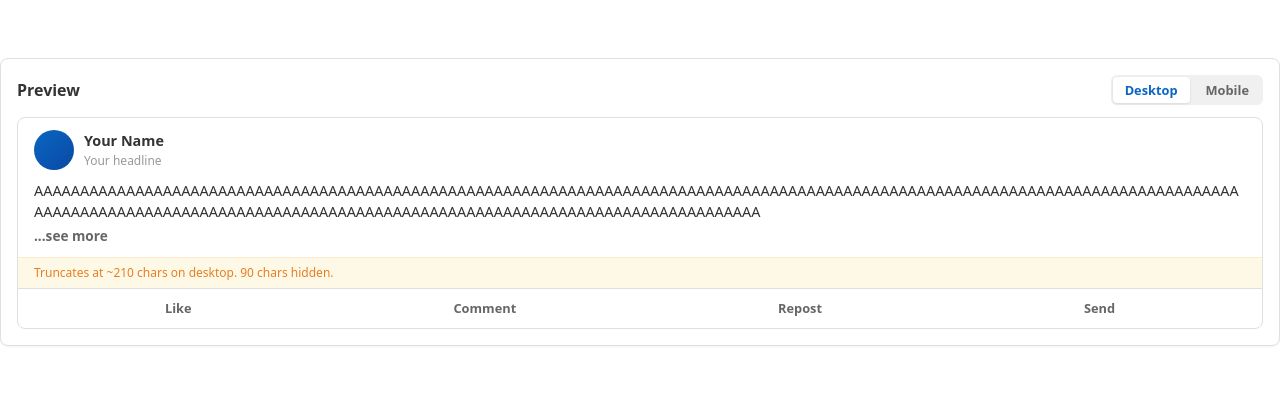
Scenario: PostPreview › resets expansion when switching device
The width and height of the screenshot is (1280, 405).
Click the button "...see more": (71, 236) x1=34 y1=226 x2=108 y2=245
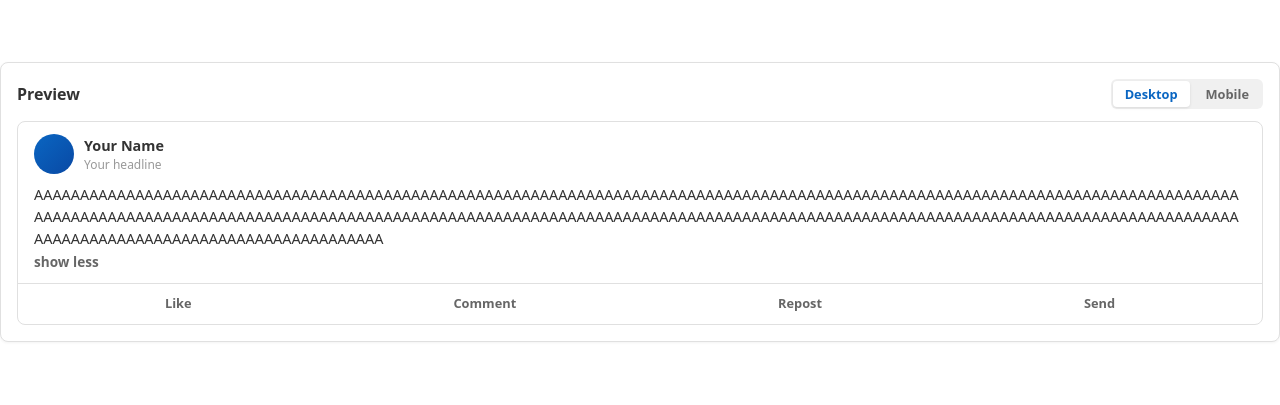
Check: the button "show less" is shown, box x1=34 y1=252 x2=99 y2=271
Note: Switch to mobile — should reset expansion
Click the button "Mobile": (1227, 94) x1=1194 y1=82 x2=1261 y2=108
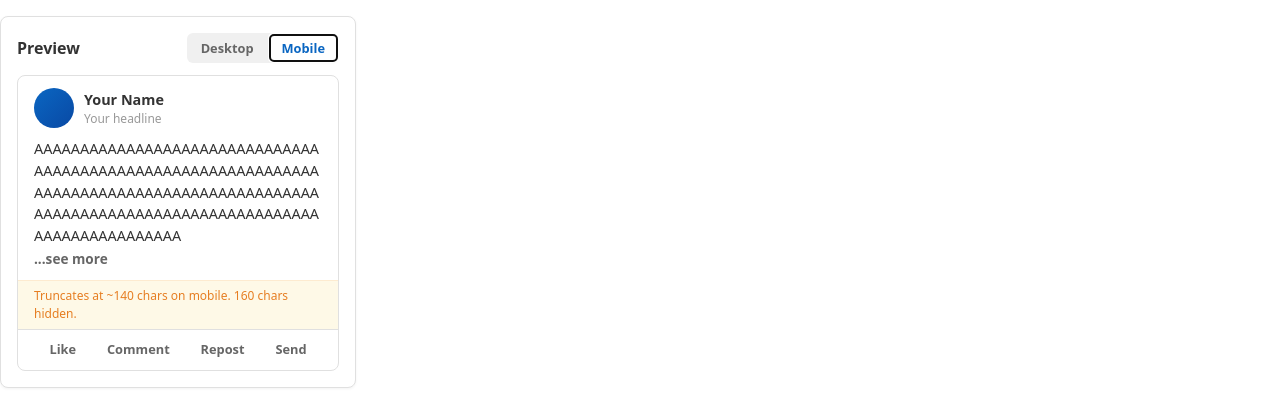
Check: the button "...see more" is shown, box x1=34 y1=249 x2=108 y2=268
